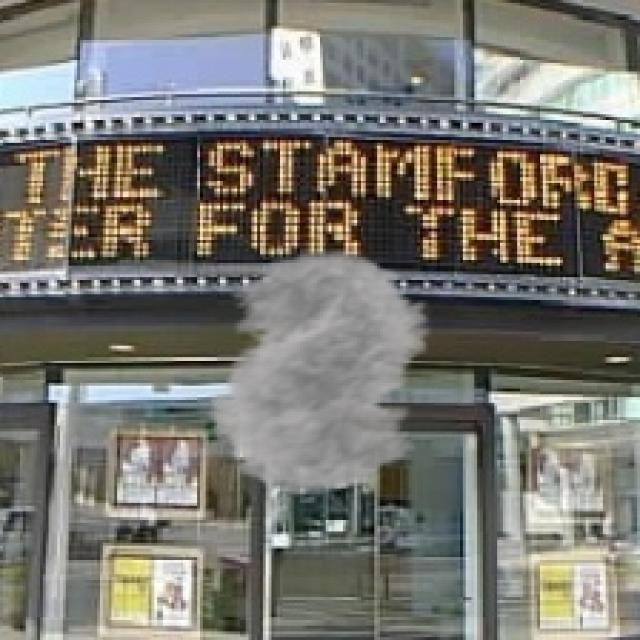Smoke: (185, 249, 460, 497)
